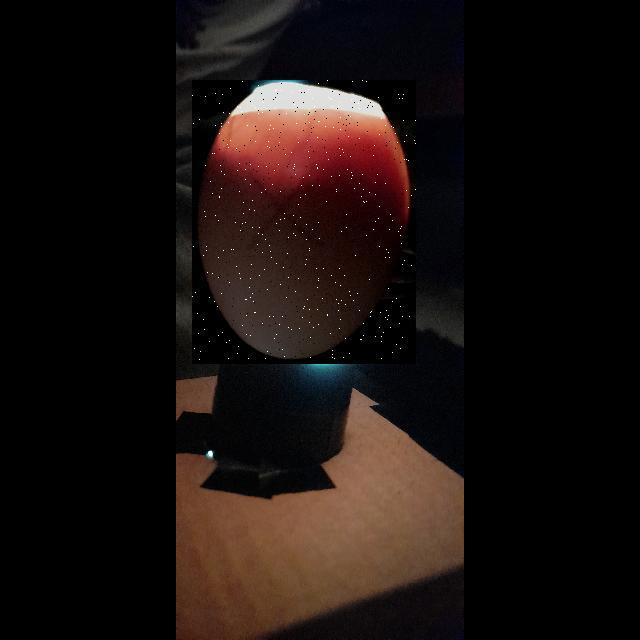Fertile: (192, 80, 416, 364)
